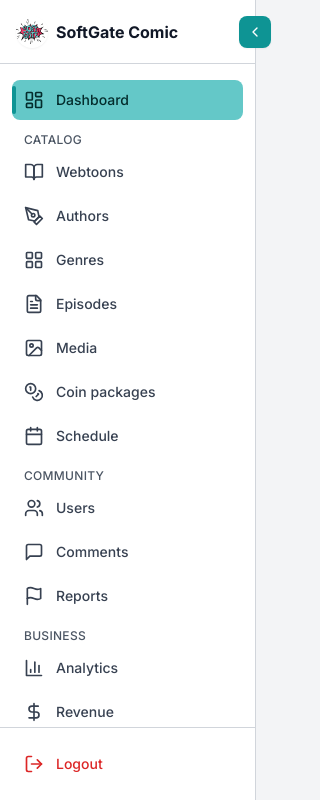
Scenario: Sidebar collapse toggle › straddles expand/collapse with aria-expanded and hides the title span when collapsed
Check: the text "SoftGate Comic" is shown, box [56,20,178,44]
Step 1. Click the button named "Collapse sidebar" → point(255, 32), box [239,16,271,48]
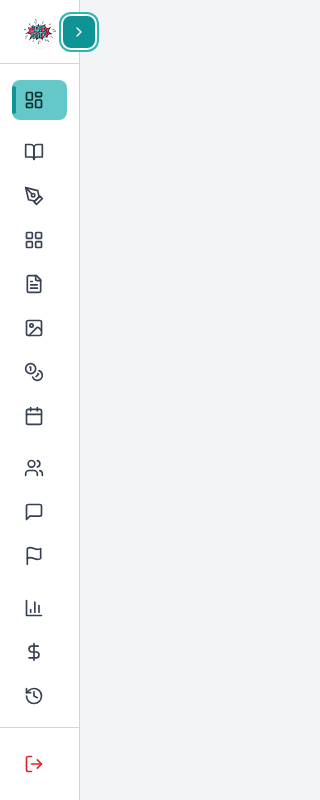
Check: the button named "Expand sidebar" is collapsed
Check: the text "SoftGate Comic" is gone
Step 2. Click the button named "Expand sidebar" → point(79, 32), box [63,16,95,48]
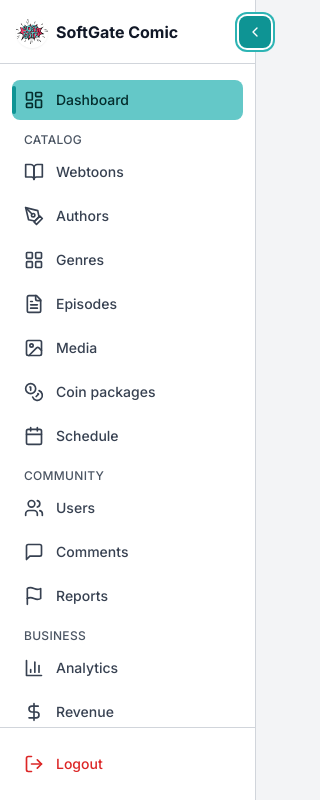
Check: the button named "Collapse sidebar" is expanded, box [239,16,271,48]
Check: the text "SoftGate Comic" is shown, box [56,20,178,44]
